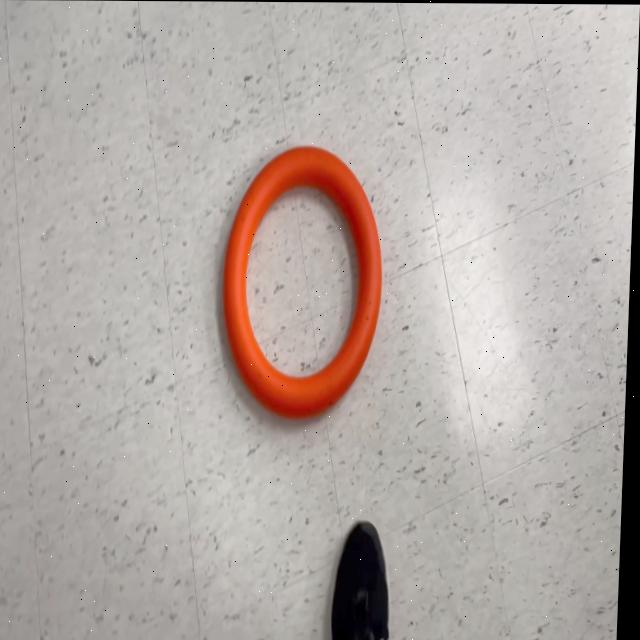note: (220, 144, 390, 423)
